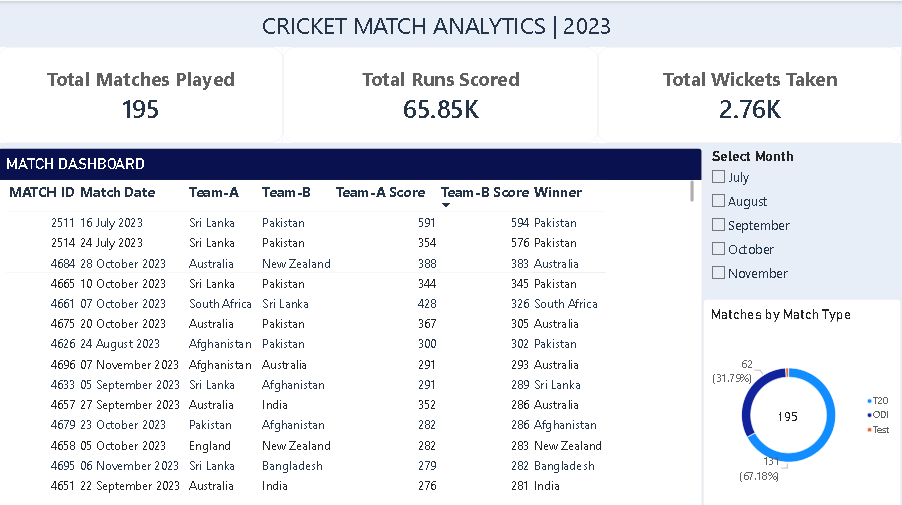

What the dashboard file says about the page in this screenshot:
{"tool":"powerbi","page":{"name":"Cricket Overview Dashboard","canvas":[1920,1080],"ordinal":0},"visuals":[{"type":"cardVisual","fields":{"Data":["MATCH_FACT.Total Runs Scored"]},"box":[605.9,97.8,669.7,204.1],"z":0},{"type":"cardVisual","fields":{"Data":["CountNonNull(MATCH_FACT.MATCH_ID)"]},"box":[0,97.8,605.9,204.1],"z":1000},{"type":"cardVisual","fields":{"Data":["MATCH_FACT.Total Wickets Taken"]},"box":[1275.6,97.8,644.2,204.1],"z":2000},{"type":"tableEx","title":"MATCH DASHBOARD","fields":{"Values":["MATCH_FACT.MATCH_ID","DATE_DIM.FULL_DT","TEAM_A_DIM.TEAM_NAME","TEAM_B_DIM.TEAM_NAME","Sum(MATCH_FACT.TOTAL_SCORE_BY_TEAM_A)","Sum(MATCH_FACT.TOTAL_SCORE_BY_TEAM_B)","MATCH_FACT.Winner Team"]},"box":[0,312.5,1496.7,767.5],"z":3000},{"type":"slicer","fields":{"Values":["DATE_DIM.FULL_DT.Variation.Date Hierarchy.Month"]},"box":[1509.4,312.5,403.9,321],"z":5000},{"type":"textbox","box":[0,19.1,1464.8,78.7],"z":6000},{"type":"donutChart","title":"Matches by Match Type","fields":{"Category":["MATCH_TYPE_DIM.MATCH_TYPE"],"Y":["MATCH_FACT.Total Matches Played"]},"box":[1498.8,633.5,420.9,446.5],"z":7000}]}

Visuals, with their boxes in screenshot pixels (x1, y1, x2, y2), scaled from the page's 1920x1080 canvas onto the 902x505 screenshot:
cardVisual - MATCH_FACT.Total Runs Scored: [285, 46, 599, 141]
cardVisual - CountNonNull(MATCH_FACT.MATCH_ID): [0, 46, 285, 141]
cardVisual - MATCH_FACT.Total Wickets Taken: [599, 46, 901, 141]
"MATCH DASHBOARD" tableEx: [0, 146, 703, 504]
slicer - DATE_DIM.FULL_DT.Variation.Date Hierarchy.Month: [709, 146, 899, 296]
textbox: [0, 9, 688, 46]
"Matches by Match Type" donutChart: [704, 296, 901, 504]
